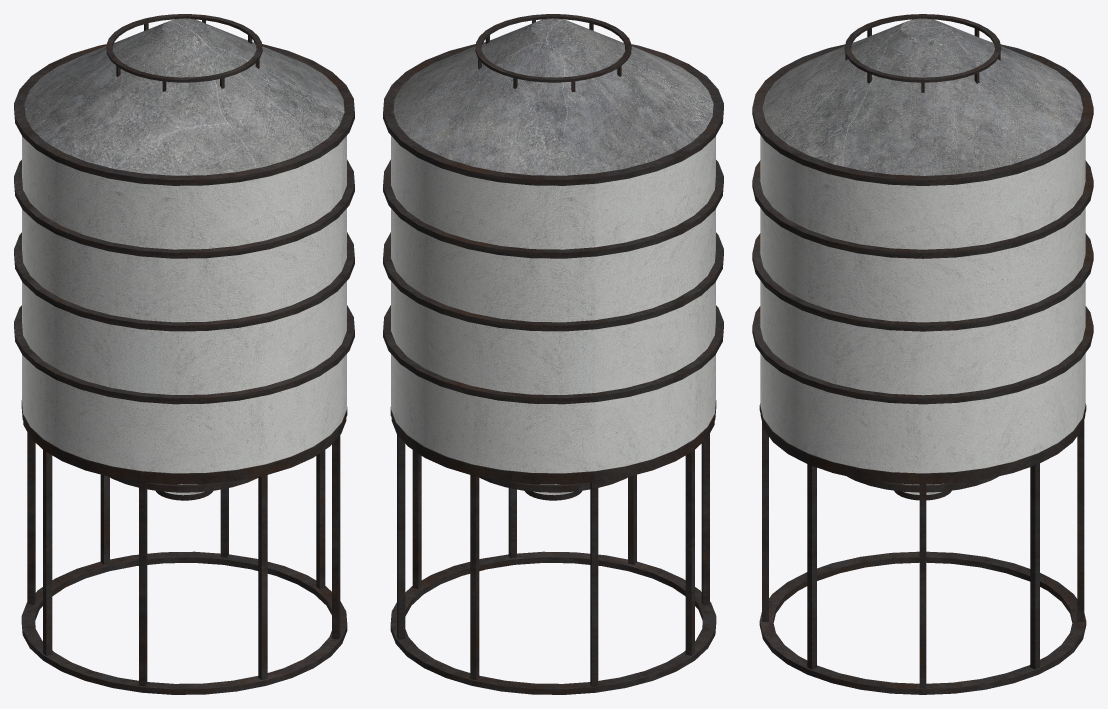
Rendered from silo.fbx.
3 views of the same model, side by side, from view 1: azimuth 30°, elevation 25°; view 2: azimuth 150°, elevation 25°; view 3: azimuth 270°, elevation 25° (orthographic).
Parts seen in each view (by area): view 1: grain_silo; view 2: grain_silo; view 3: grain_silo.
Boxes of the visible parts, left/top/right/bottom form: grain_silo: left=14, top=14, right=354, bottom=694; grain_silo: left=383, top=14, right=723, bottom=694; grain_silo: left=752, top=14, right=1093, bottom=694.
Bounding box in the file's own units: 419 × 810 × 419.
